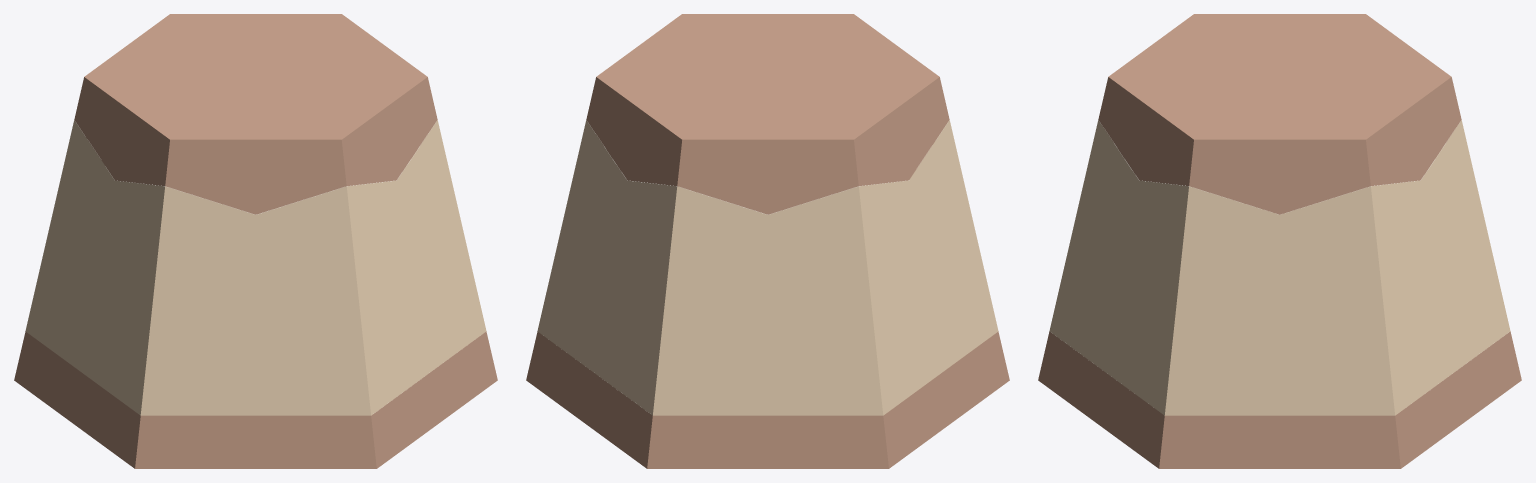
The picture shows the model from 3 angles, left to right: view 1: azimuth 30°, elevation 25°; view 2: azimuth 150°, elevation 25°; view 3: azimuth 270°, elevation 25°; orthographic projection.
Parts seen in each view (by area): view 1: pudding; view 2: pudding; view 3: pudding.
Boxes of the visible parts, x1,y1,x2,y2 form: pudding: (14, 14, 497, 468); pudding: (526, 14, 1009, 468); pudding: (1038, 14, 1521, 468).
Size of the model in its own units: 0.25 by 0.1998 by 0.2886.
